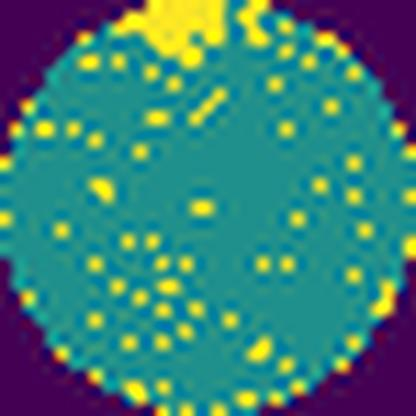Edge-Loc: (102, 0, 225, 68)
